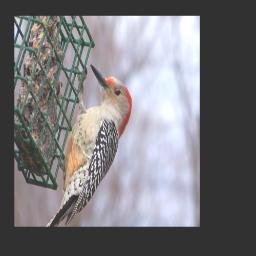Woodpecker: (51, 65, 133, 226)
